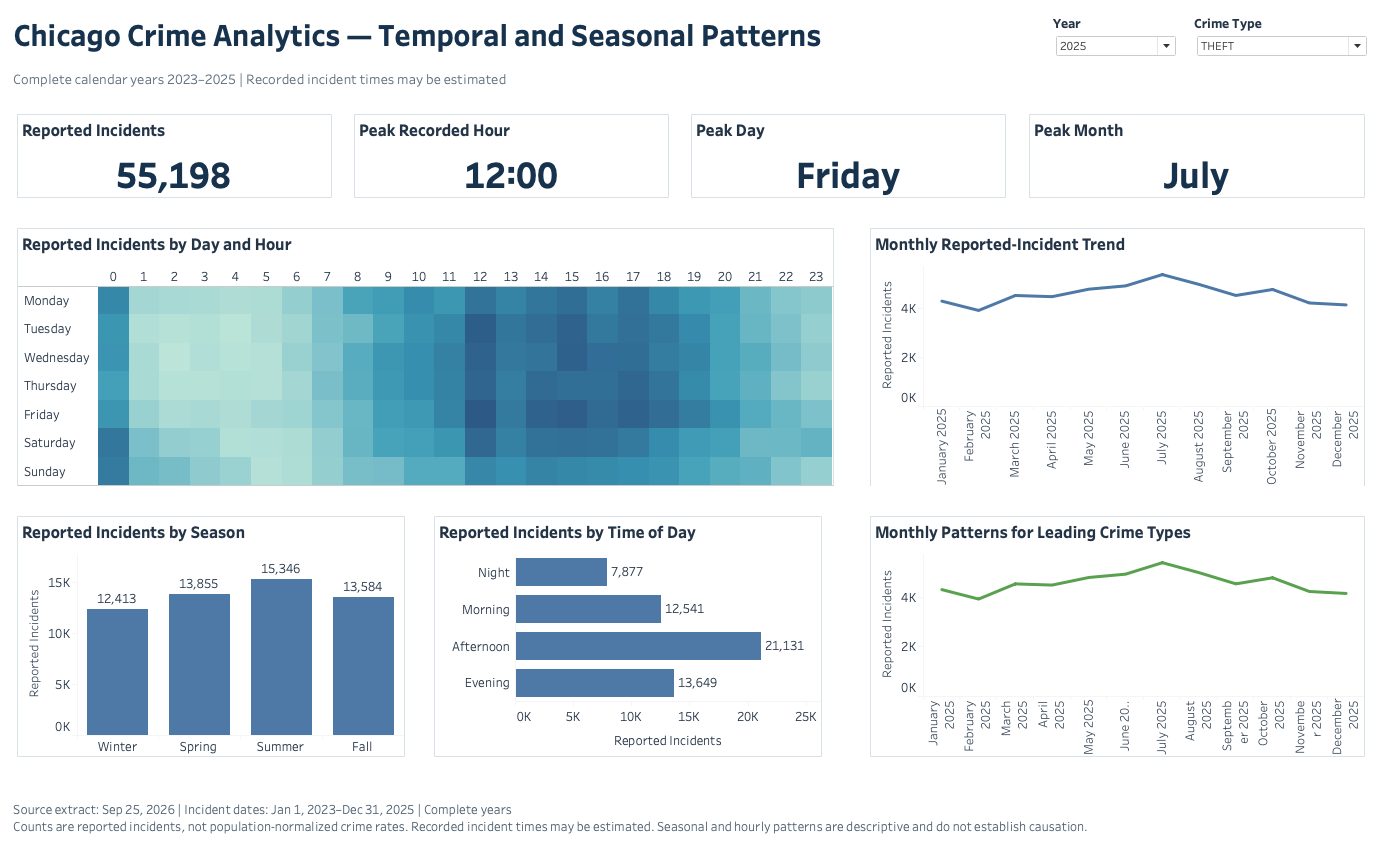

The dashboard page shown, as its layout file describes it:
{"tool":"tableau","page":{"name":"Temporal and Seasonal Patterns","canvas":[1360,850],"ordinal":2},"visuals":[{"type":"title","box":[24.5,10.2,979.2,61.2]},{"type":"parameter","param":"[Parameters].[pSelectedYear]","box":[1033.6,18.7,122.4,44.2]},{"type":"parameter","param":"[Parameters].[pCrimeType]","box":[1169.6,18.7,170,44.2]},{"type":"text","box":[24.5,66.3,979.2,30.6]},{"type":"worksheet","title":"P3 KPI Total Incidents","mark":"Text","box":[24.5,110.5,316.9,93.5]},{"type":"worksheet","title":"P3 KPI Peak Hour","mark":"Text","box":[350.9,110.5,316.9,93.5]},{"type":"worksheet","title":"P3 KPI Peak Day","mark":"Text","box":[677.3,110.5,316.9,93.5]},{"type":"worksheet","title":"P3 KPI Peak Month","mark":"Text","box":[1003.7,110.5,337.3,93.5]},{"type":"worksheet","title":"P3 Day-Hour Heatmap","mark":"Square","rows":["day_of_week"],"cols":["hour_of_day"],"box":[24.5,221,802.4,263.5]},{"type":"worksheet","title":"P3 Monthly Crime Trend","mark":"Line","rows":["reported_incident_count"],"cols":["month_start"],"box":[850,221,491,263.5]},{"type":"worksheet","title":"P3 Seasonal Comparison","mark":"Bar","rows":["reported_incident_count"],"cols":["season"],"box":[24.5,501.5,387.6,246.5]},{"type":"worksheet","title":"P3 Time-of-Day Distribution","mark":"Bar","rows":["time_of_day_display"],"cols":["reported_incident_count"],"box":[428.4,501.5,387.6,246.5]},{"type":"worksheet","title":"P3 Category Monthly Comparison","mark":"Line","rows":["reported_incident_count"],"cols":["month_start"],"box":[850,501.5,491,246.5]},{"type":"text","box":[24.5,765,1316.5,72.2]}]}

Visuals, with their boxes in screenshot pixels (x1, y1, x2, y2), scaled from the page's 1360x850 canvas onto the 1386x848 screenshot:
title: <region>25, 10, 1023, 71</region>
parameter: <region>1053, 19, 1178, 63</region>
parameter: <region>1192, 19, 1365, 63</region>
text: <region>25, 66, 1023, 97</region>
"P3 KPI Total Incidents" worksheet (Text marks): <region>25, 110, 348, 204</region>
"P3 KPI Peak Hour" worksheet (Text marks): <region>358, 110, 681, 204</region>
"P3 KPI Peak Day" worksheet (Text marks): <region>690, 110, 1013, 204</region>
"P3 KPI Peak Month" worksheet (Text marks): <region>1023, 110, 1367, 204</region>
"P3 Day-Hour Heatmap" worksheet (Square marks): <region>25, 220, 843, 483</region>
"P3 Monthly Crime Trend" worksheet (Line marks): <region>866, 220, 1367, 483</region>
"P3 Seasonal Comparison" worksheet (Bar marks): <region>25, 500, 420, 746</region>
"P3 Time-of-Day Distribution" worksheet (Bar marks): <region>437, 500, 832, 746</region>
"P3 Category Monthly Comparison" worksheet (Line marks): <region>866, 500, 1367, 746</region>
text: <region>25, 763, 1367, 835</region>
